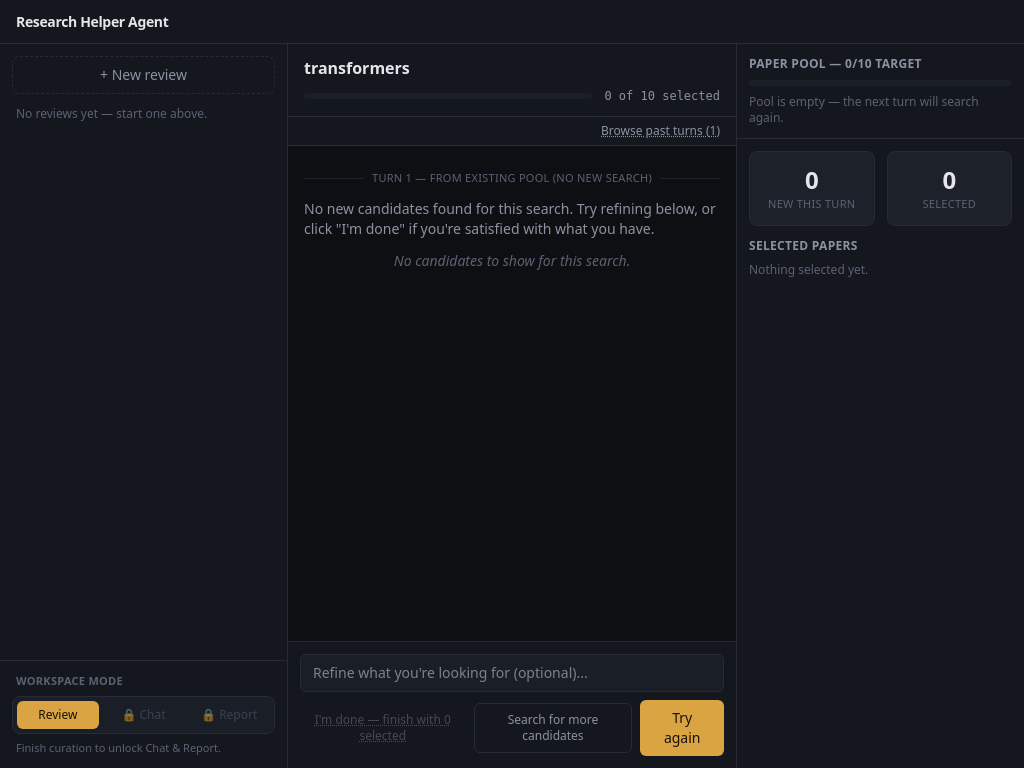
Test case: App › UXH.1 (UX-01): the topic header count includes a paper staged from Browse Past Turns during active curation
Expected: the text with test id "progress-count" reads "0 of 10 selected", [604,88,720,104]
Click the button with test id "open-turn-history": (660, 131) [601,123,720,139]
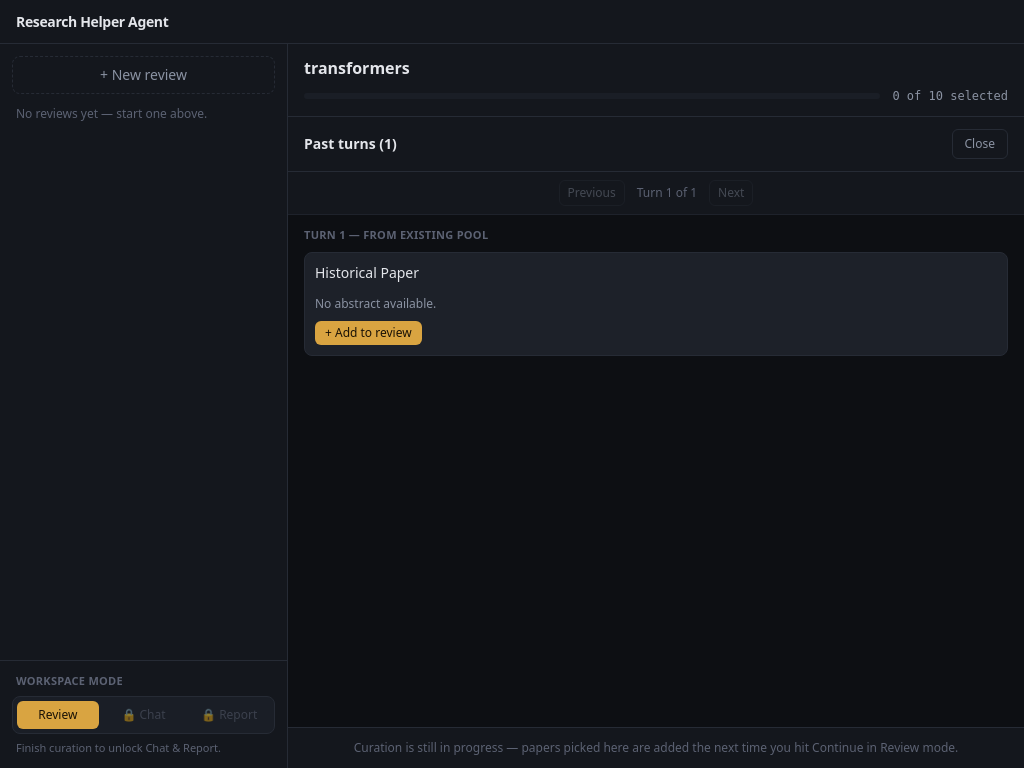
Click the button with test id "add-paper-p0": (368, 333) [315,321,422,345]
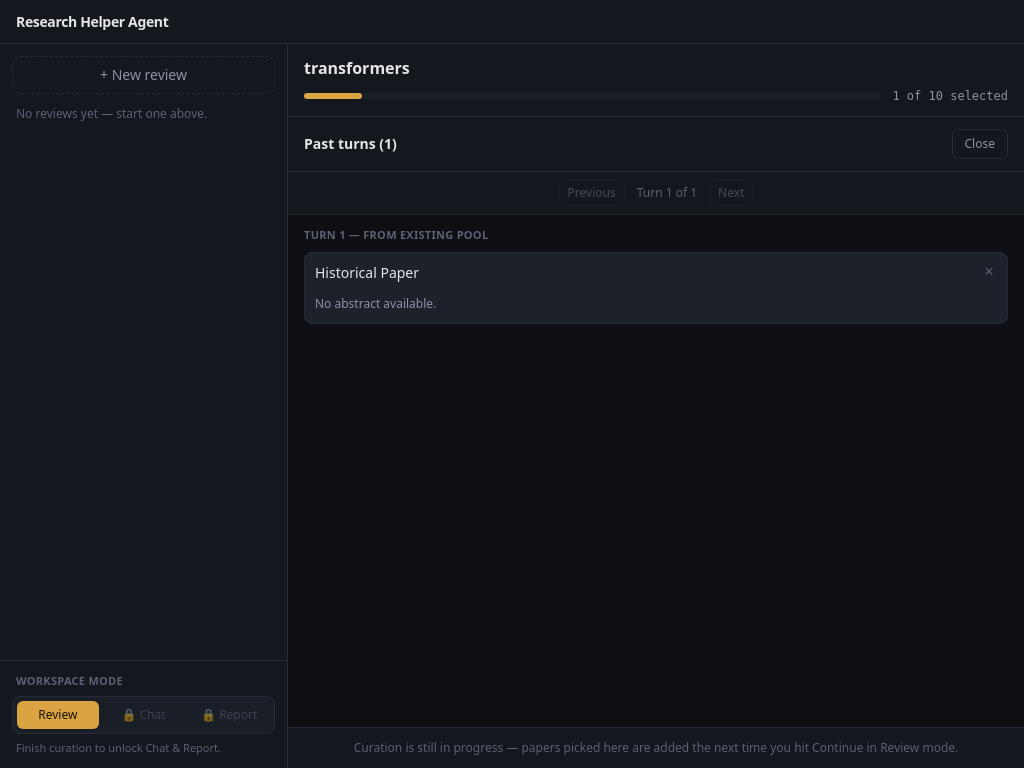
Expected: the text with test id "progress-count" reads "1 of 10 selected", [892,88,1008,104]
